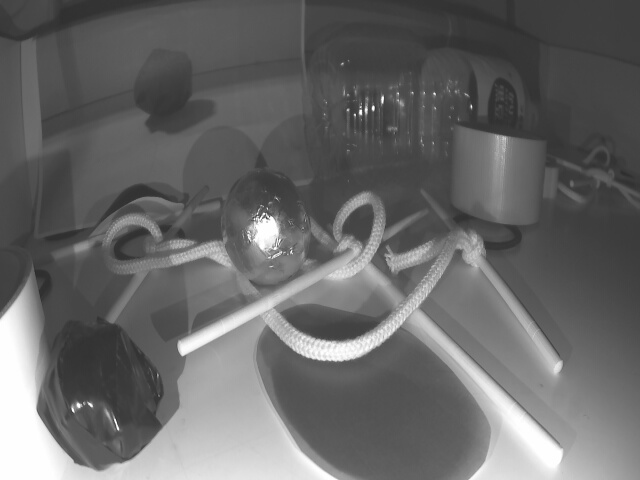Dead: (33, 319, 169, 471)
Live: (219, 170, 313, 284)
